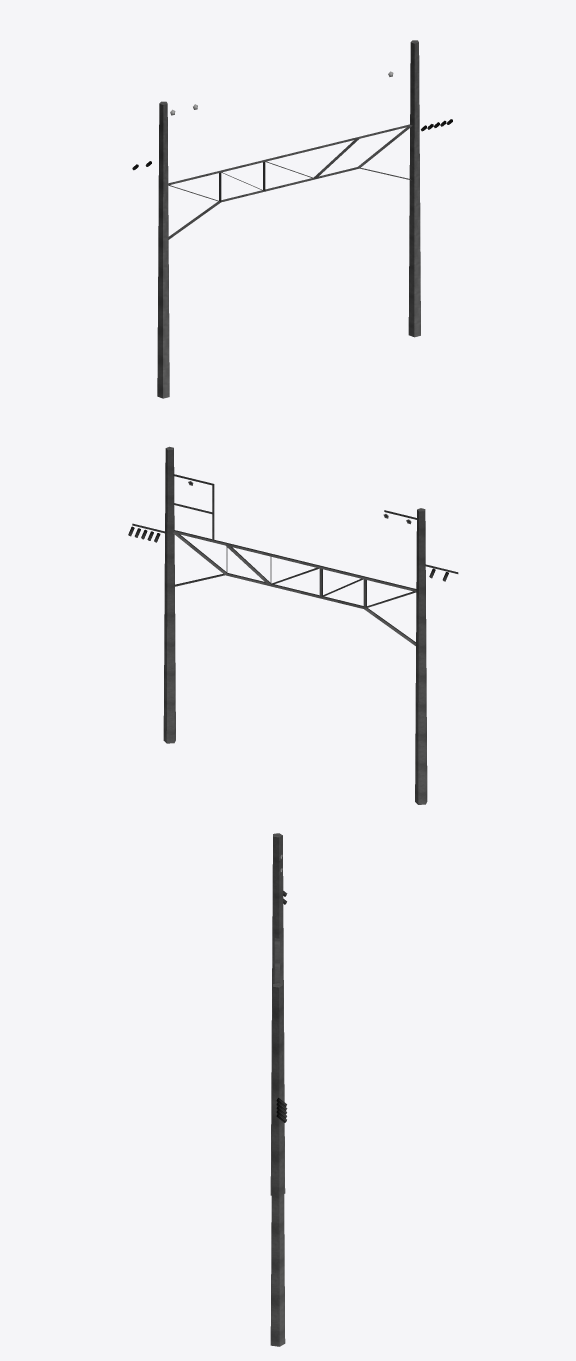
Rendered from MEI_KASENCHU01.glb.
The picture shows the model from 3 angles, top to bottom: view 1: azimuth 30°, elevation 25°; view 2: azimuth 150°, elevation 25°; view 3: azimuth 270°, elevation 25°; orthographic projection. The views are drawn at different scales.
Visible parts, largest first — view 1: obj2; view 2: obj2; view 3: obj2.
Part boxes in pixels (<box>): obj2: <box>132,40,452,398</box>; obj2: <box>128,446,458,804</box>; obj2: <box>270,833,287,1346</box>.
Bounding box in the file's own units: 42.44 × 36.19 × 50.18.
Materials: 6 (6 with a texture image).
